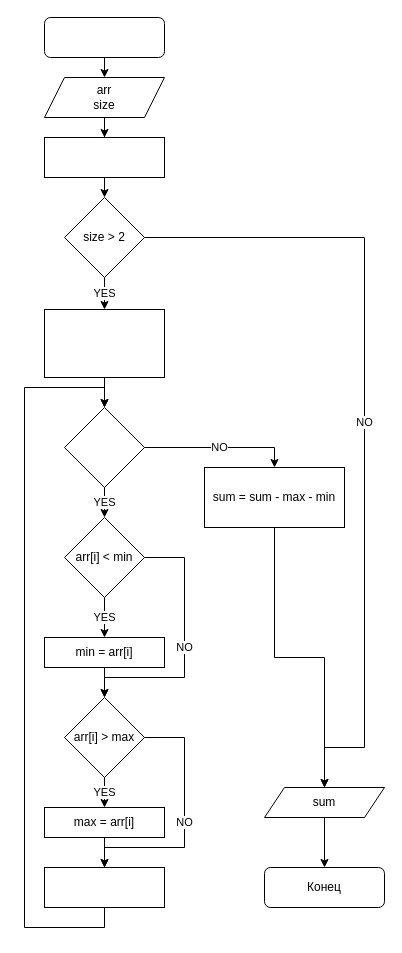
This 402x953 diagram has some shape labels left out. The box of each missing label's shape, as (x1, y1, x2, y2) in pixels:
i < size: (64, 406, 144, 488)
min = arr[0] max = arr[0] i = 1 sum = sum + arr[0]: (44, 308, 164, 378)
sum = 0: (44, 136, 164, 178)
sum = sum + arr[i] i = i + 1: (44, 866, 164, 908)
Начало: (44, 16, 164, 58)
